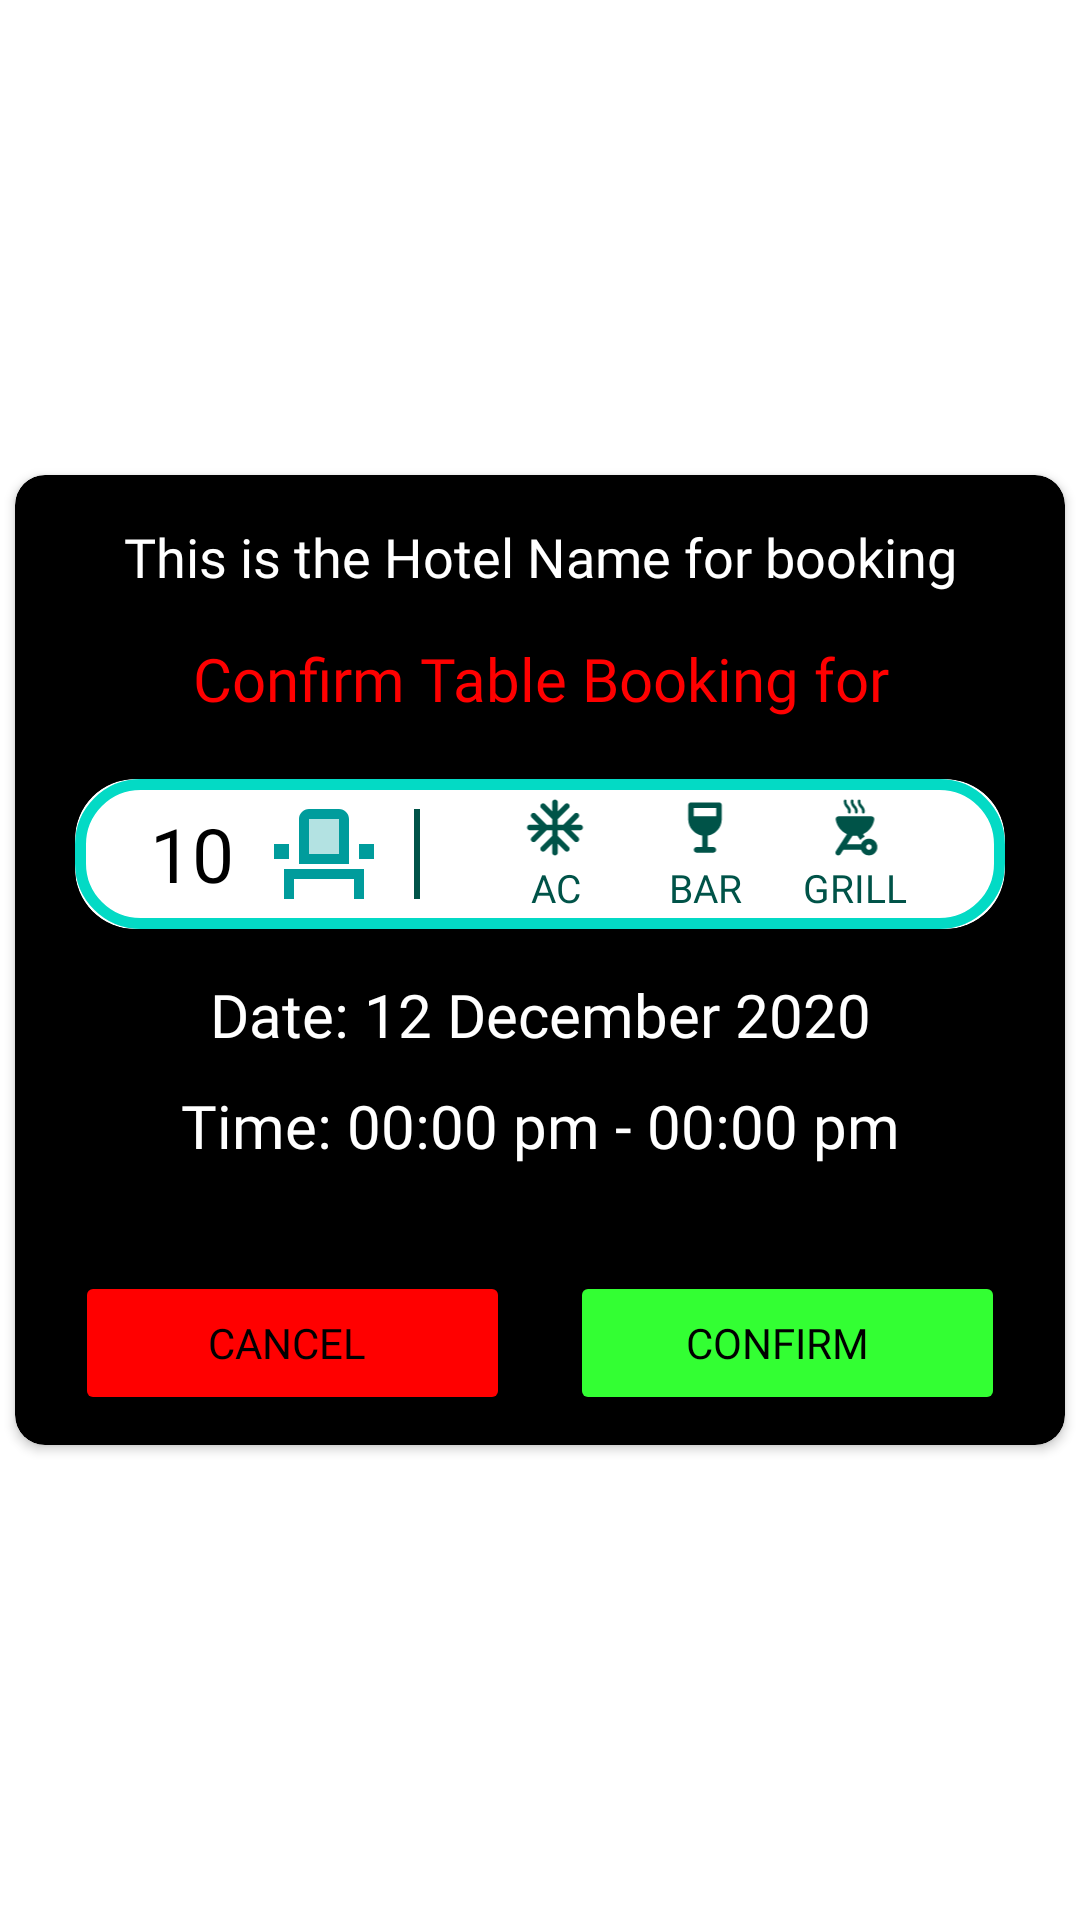

Where to tap for icons on this 1080×1920 app screen, as (x=x, y=y):
ac table: (x=555, y=827)
near wine bar: (x=705, y=827)
seat: (x=324, y=854)
